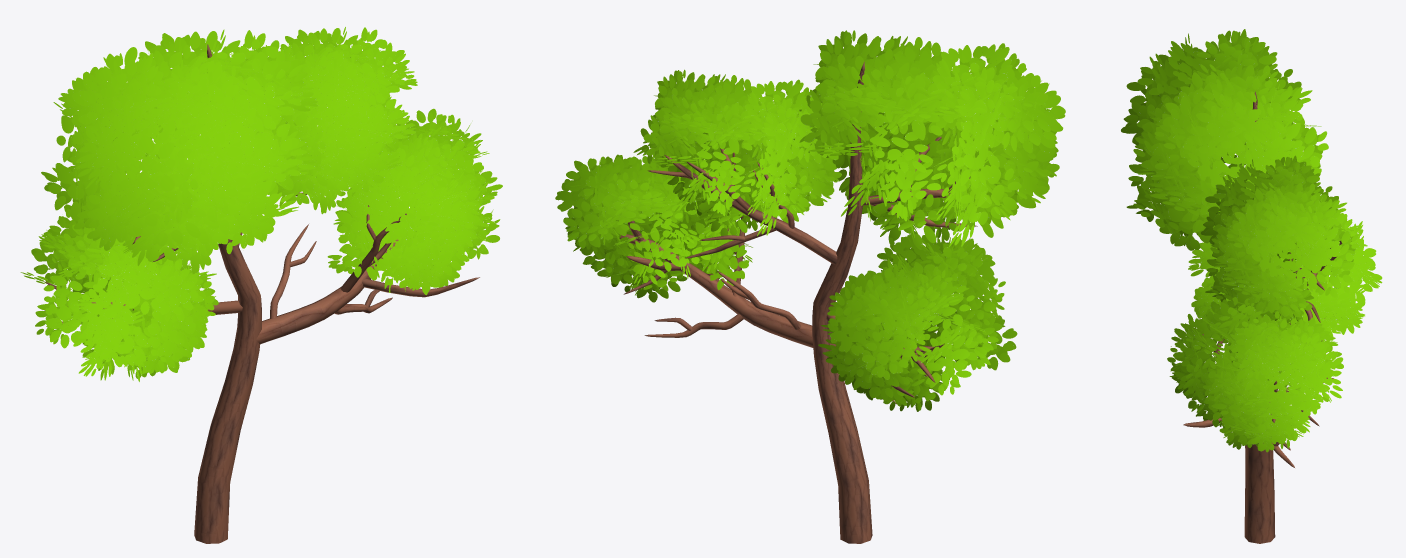
The model's file is quaternius-ultimate-stylized-nature-normal-tree-3.glb.
3 renders of one model, left to right at view 1: azimuth 30°, elevation 25°; view 2: azimuth 150°, elevation 25°; view 3: azimuth 270°, elevation 25°, orthographic. The views are drawn at different scales.
Visible parts, largest first — view 1: NormalTree_3; view 2: NormalTree_3; view 3: NormalTree_3.
Part boxes in pixels (<box>): NormalTree_3: <box>20,27,502,543</box>; NormalTree_3: <box>555,30,1065,543</box>; NormalTree_3: <box>1121,29,1382,543</box>.
Bounding box in the file's own units: 5.04 × 5.28 × 2.88.
Materials: 2 (2 with a texture image).
